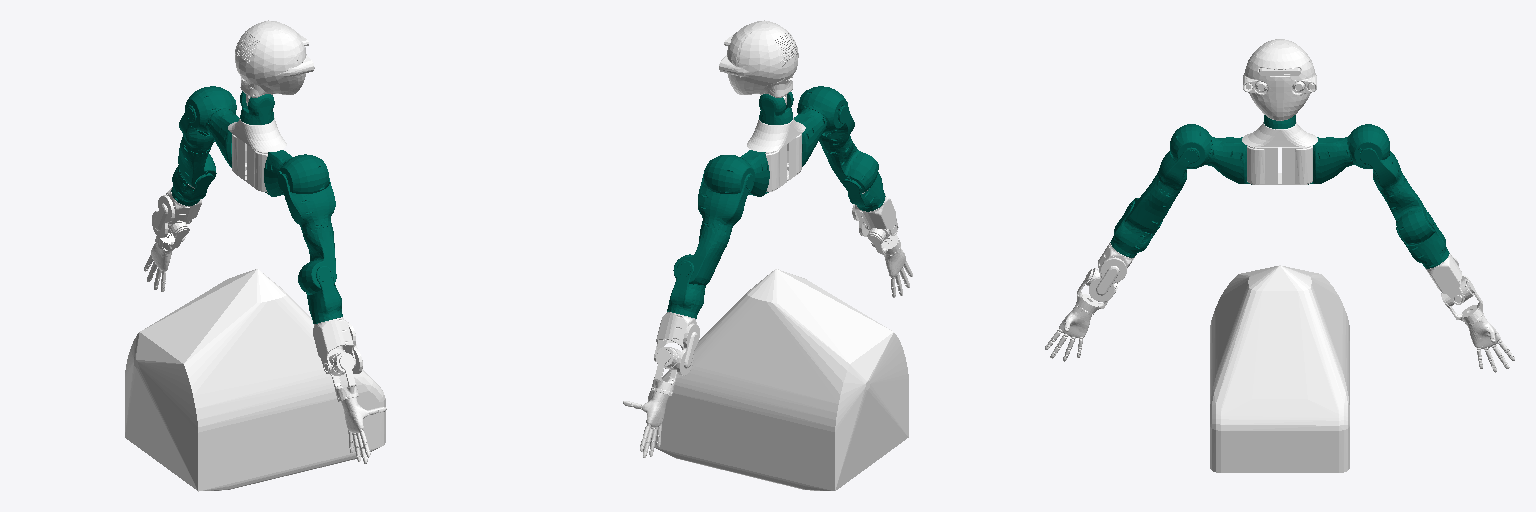
--- What the picture shows (computed from the rendered views, not written in the file) ---
3 views of the same robot in one strip: view 1: azimuth 30°, elevation 25°; view 2: azimuth 150°, elevation 25°; view 3: azimuth 270°, elevation 25° (orthographic).
Model Armar6 with 59 links and 58 joints (40 revolute, 6 continuous, 1 prismatic, 11 fixed), rooted at world, posed every joint at zero.
Links seen in each view (by area): view 1: platform, upper_neck, arm_t34_r1, arm_t45_r1, arm_t67_r1, arm_t23_r1, arm_t23_r0, lower_neck, arm_t56_r1, arm_t67_r0, arm_t45_r0, arm_t12_r0 (+8 smaller); view 2: platform, upper_neck, arm_t34_r0, arm_t45_r0, arm_t67_r0, arm_t23_r0, arm_t45_r1, arm_t23_r1, arm_t56_r0, lower_neck, arm_t67_r1, arm_t12_r1 (+8 smaller); view 3: platform, upper_neck, arm_t45_r0, arm_t45_r1, arm_t12_r0, arm_t12_r1, arm_t67_r1, arm_t23_r1, lower_neck, arm_t23_r0, arm_t34_r0, arm_cla_r0 (+9 smaller).
Link boxes in pixels (bbox=[...]): platform: bbox=[125, 269, 385, 491]; upper_neck: bbox=[235, 20, 314, 105]; arm_t34_r1: bbox=[278, 174, 335, 232]; arm_t45_r1: bbox=[298, 226, 336, 294]; arm_t67_r1: bbox=[313, 317, 362, 373]; arm_t23_r1: bbox=[278, 154, 328, 193]; arm_t23_r0: bbox=[185, 86, 235, 132]; lower_neck: bbox=[228, 118, 286, 151]; arm_t56_r1: bbox=[306, 266, 342, 323]; arm_t67_r0: bbox=[152, 184, 201, 237]; arm_t45_r0: bbox=[178, 132, 216, 187]; arm_t12_r0: bbox=[207, 109, 239, 167]; platform: bbox=[648, 269, 908, 490]; upper_neck: bbox=[719, 20, 798, 104]; arm_t34_r0: bbox=[698, 168, 753, 232]; arm_t45_r0: bbox=[673, 226, 730, 285]; arm_t67_r0: bbox=[654, 312, 699, 375]; arm_t23_r0: bbox=[704, 155, 754, 195]; arm_t45_r1: bbox=[822, 132, 878, 192]; arm_t23_r1: bbox=[797, 86, 848, 132]; arm_t56_r0: bbox=[667, 260, 705, 318]; lower_neck: bbox=[747, 118, 805, 151]; arm_t67_r1: bbox=[852, 190, 898, 236]; arm_t12_r1: bbox=[794, 109, 826, 166]; platform: bbox=[1210, 265, 1349, 472]; upper_neck: bbox=[1243, 39, 1316, 120]; arm_t45_r0: bbox=[1382, 179, 1434, 244]; arm_t45_r1: bbox=[1125, 179, 1177, 233]; arm_t12_r0: bbox=[1308, 137, 1352, 184]; arm_t12_r1: bbox=[1207, 137, 1251, 184]; arm_t67_r1: bbox=[1089, 243, 1134, 301]; arm_t23_r1: bbox=[1170, 124, 1212, 168]; lower_neck: bbox=[1242, 122, 1317, 146]; arm_t23_r0: bbox=[1347, 124, 1389, 168]; arm_t34_r0: bbox=[1360, 148, 1405, 194]; arm_cla_r0: bbox=[1280, 145, 1312, 184].
Bounding box of the posed robot: 0.95 × 2.02 × 1.89 m (x, y, z).
52 mesh visuals loaded from 30 distinct referenced files (16 binary STL, 13 OBJ); not drawn: 1 (reference not matched to a file when rendering).

URDF robot description (Armar6):
<?xml version="1.0" ?>
<robot name="Armar6">
  <link name="world"/>
  <joint name="platform_joint" type="fixed">
    <parent link="world"/>
    <child link="platform"/>
    <origin rpy="0 0 -1.5707963267948966" xyz="0 0 0"/>
  </joint>
  <link name="platform">
    <inertial>
      <origin rpy="0 0 0" xyz="0 0 0"/>
      <mass value="100"/>
      <inertia ixx="1" ixy="0" ixz="0" iyy="1" iyz="0" izz="1"/>
    </inertial>
    <visual>
      <origin rpy="0 0 0" xyz="0 0 0"/>
      <geometry>
        <mesh filename="package://armar6_description/meshes/visual/platform.obj"/>
      </geometry>
      <material name="white">
        <color rgba="1 1 1 1"/>
      </material>
    </visual>
    <collision>
      <origin rpy="0 0 0" xyz="0 0 0"/>
      <geometry>
        <mesh filename="package://armar6_description/meshes/collision/platform.stl"/>
      </geometry>
    </collision>
  </link>
  <joint name="torso_joint" type="prismatic">
    <parent link="platform"/>
    <child link="torso"/>
    <origin rpy="0 0 0" xyz="0 0 1.195"/>
    <axis xyz="0 0 1"/>
    <limit effort="1000" lower="-0.365" upper="0" velocity="0.15"/>
    <dynamics damping="0.5"/>
  </joint>
  <link name="torso">
    <inertial>
      <origin rpy="0 0 0" xyz="0 0 0.0711"/>
      <mass value="9.7089"/>
      <inertia ixx="0.064445" ixy="0" ixz="0.000181" iyy="0.070569" iyz="-0.000044" izz="0.182479"/>
    </inertial>
    <visual>
      <origin rpy="0 0 0" xyz="0 0 0"/>
      <geometry>
        <mesh filename="package://armar6_description/meshes/visual/torso.obj"/>
      </geometry>
      <material name="white">
        <color rgba="1 1 1 1"/>
      </material>
    </visual>
    <collision>
      <origin rpy="0 0 0" xyz="0 0 0"/>
      <geometry>
        <mesh filename="package://armar6_description/meshes/collision/torso.stl"/>
      </geometry>
    </collision>
  </link>

  <!-- NECK -->

  <joint name="lower_neck_joint" type="fixed">
    <parent link="torso"/>
    <child link="lower_neck"/>
    <origin rpy="0 0 1.5707963267948966" xyz="0 0 0.3685"/>
  </joint>
  <link name="lower_neck">
    <inertial>
      <origin rpy="0 0 0" xyz="0 0 -0.114"/>
      <mass value="0.671"/>
      <inertia ixx="2.9368849e-03" ixy="-9.8073037e-07" ixz="3.4807663e-07" iyy="3.0522742e-03" iyz="1.7456971e-07" izz="4.3647786e-03"/>
    </inertial>
    <visual>
      <origin rpy="0 0 0" xyz="0 0 0"/>
      <geometry>
        <mesh filename="package://armar6_description/meshes/visual/lower_neck.obj"/>
      </geometry>
      <material name="white">
        <color rgba="1 1 1 1"/>
      </material>
    </visual>
    <collision>
      <origin rpy="0 0 0" xyz="0 0 0"/>
      <geometry>
        <mesh filename="package://armar6_description/meshes/collision/lower_neck.stl"/>
      </geometry>
    </collision>
  </link>
  <joint name="neck_1_yaw" type="revolute">
    <parent link="lower_neck"/>
    <child link="middle_neck"/>
    <limit effort="100" lower="-1.0" upper="1.0" velocity="3.1415"/>
    <origin rpy="0 0 0" xyz="0 0 0"/>
    <axis xyz="0.00000 0.00000 1.00000"/>
  </joint>
  <link name="middle_neck">
    <inertial>
      <origin rpy="0 0 0" xyz="0 0 0"/>
      <mass value="0.304"/>
      <inertia ixx="8.3637709e-04" ixy="7.3326556e-05" ixz="3.2956579e-07" iyy="7.6398772e-04" iyz="3.8719866e-07" izz="1.0940196e-03"/>
    </inertial>
    <visual>
      <origin rpy="0 0 0" xyz="0 0 0"/>
      <geometry>
        <mesh filename="package://armar6_description/meshes/visual/middle_neck.obj"/>
      </geometry>
      <material name="armar_green">
        <color rgba="0.039215686 0.447058824 0.4 1"/>
      </material>
    </visual>
    <collision>
      <origin rpy="0 0 0" xyz="0 0 0"/>
      <geometry>
        <mesh filename="package://armar6_description/meshes/collision/middle_neck.stl"/>
      </geometry>
    </collision>
  </link>
  <joint name="neck_2_pitch" type="revolute">
    <parent link="middle_neck"/>
    <child link="upper_neck"/>
    <limit effort="100" lower="-0.8" upper="0.8" velocity="3.1415"/>
    <origin rpy="1.5707963267948966 0 1.5707963267948966" xyz="0 0 0"/>
    <axis xyz="1.00000 0.00000 0.00000"/>
  </joint>
  <link name="upper_neck">
    <inertial>
      <origin rpy="0 0 0" xyz="0 0.129 0.088"/>
      <mass value="3.307"/>
      <inertia ixx="4.2049627e-02" ixy="2.1679760e-04" ixz="1.5039253e-04" iyy="3.7165600e-04" iyz="-1.2902959e-02" izz="3.8875838e-02"/>
    </inertial>
    <visual>
      <origin rpy="0 0 0" xyz="0 0 0"/>
      <geometry>
        <mesh filename="package://armar6_description/meshes/visual/upper_neck.obj"/>
      </geometry>
      <material name="white">
        <color rgba="1 1 1 1"/>
      </material>
    </visual>
    <collision>
      <origin rpy="0 0 0" xyz="0 0 0"/>
      <geometry>
        <mesh filename="package://armar6_description/meshes/collision/upper_neck.stl"/>
      </geometry>
    </collision>
  </link>

  <!-- CAMERA -->

  <joint name="depth_camera_joint" type="fixed">
		<parent link="upper_neck"/>
		<child link="DepthCamera"/>
		<dynamics damping="1.0" friction="0.0001"/>
		<origin rpy="0.00000 0.00000 -3.14159" xyz="0.03300 0.24780 0.19300"/>
		<axis xyz="0.00000 0.00000 0.00000"/>
	</joint>
  <link name="DepthCamera">
		<inertial>
			<origin rpy="0.00000 -0.00000 0.00000" xyz="0.00000 0.00000 0.00000"/>
			<mass value="0.00010"/>
			<inertia ixx="0.00000" ixy="0" ixz="0" iyy="0.00000" iyz="0" izz="0.00000"/>
		</inertial>
	</link>
	<joint name="flea_cameras_joint" type="fixed">
		<parent link="upper_neck"/>
		<child link="FleaCamerasCenter"/>
		<dynamics damping="1.0" friction="0.0001"/>
		<origin rpy="0.00000 0.00000 -3.14159" xyz="0.00000 0.17300 0.12300"/>
		<axis xyz="0.00000 0.00000 0.00000"/>
	</joint>
	<link name="FleaCamerasCenter">
		<inertial>
			<origin rpy="0.00000 -0.00000 0.00000" xyz="0.00000 0.00000 0.00000"/>
			<mass value="0.00010"/>
			<inertia ixx="0.00000" ixy="0" ixz="0" iyy="0.00000" iyz="0" izz="0.00000"/>
		</inertial>
	</link>
	<joint name="robotception_camera_link" type="fixed">
		<parent link="upper_neck"/>
		<child link="Roboception"/>
		<dynamics damping="1.0" friction="0.0001"/>
		<origin rpy="0.00000 -0.00000 0.00000" xyz="0.00000 0.17300 0.16050"/>
		<axis xyz="0.00000 0.00000 0.00000"/>
	</joint>
	<link name="Roboception">
		<inertial>
			<origin rpy="0.00000 -0.00000 0.00000" xyz="0.00000 0.00000 0.00000"/>
			<mass value="0.00010"/>
			<inertia ixx="0.00000" ixy="0" ixz="0" iyy="0.00000" iyz="0" izz="0.00000"/>
		</inertial>
	</link>

  <!-- ARM -->
  <!-- left arm -->

  <joint name="arm_cla_joint_r0" type="fixed">
    <parent link="torso"/>
    <child link="arm_cla_r0"/>
    <origin rpy="0 0 1.5707963267948966" xyz="-0.09 0.0 0.1"/>
  </joint>
  <link name="arm_cla_r0">
    <inertial>
      <origin rpy="0 0 0" xyz="0 0 0"/>
      <mass value="1.0"/>
      <inertia ixx="0.005094" ixy="0" ixz="0" iyy="0.00445008" iyz="0" izz="0.0032066"/>
    </inertial>
    <visual>
      <origin rpy="0 0 0" xyz="0 0 0"/>
      <geometry>
        <mesh filename="package://armar6_description/meshes/visual/arml_cla.obj" scale="1.016 1.016 1.016"/>
      </geometry>
      <material name="white">
        <color rgba="1 1 1 1"/>
      </material>
    </visual>
    <collision>
      <origin rpy="0 0 0" xyz="0 0 0"/>
      <geometry>
        <mesh filename="package://armar6_description/meshes/collision/arml_cla.stl"/>
      </geometry>
    </collision>
  </link>
  <joint name="arm_t12_joint_r0" type="revolute">
    <parent link="arm_cla_r0"/>
    <child link="arm_t12_r0"/>
    <origin rpy="0 0 0" xyz="0 0 0"/>
    <axis xyz="0 0 1"/>
    <limit effort="240" lower="-1.3962634016" upper="1.3962634016" velocity="1.710422666954443"/>
    <dynamics damping="0.5"/>
  </joint>
  <link name="arm_t12_r0">
    <inertial>
      <origin rpy="0 0 0" xyz="0.0 0.1419 0.0283"/>
      <mass value="3.5488"/>
      <inertia ixx="0.018383" ixy="0.000021" ixz="0.000211" iyy="0.014306" iyz="-0.002042" izz="0.010714"/>
    </inertial>
    <visual>
      <origin rpy="0 0 0" xyz="0 0 0"/>
      <geometry>
        <mesh filename="package://armar6_description/meshes/visual/arml_t12.obj"/>
      </geometry>
      <material name="armar_green">
        <color rgba="0.039215686 0.447058824 0.4 1"/>
      </material>
    </visual>
    <collision>
      <origin rpy="0 0 0" xyz="0 0 0"/>
      <geometry>
        <mesh filename="package://armar6_description/meshes/collision/arml_t12.stl"/>
      </geometry>
    </collision>
  </link>
  <joint name="arm_t23_joint_r0" type="continuous">
    <parent link="arm_t12_r0"/>
    <child link="arm_t23_r0"/>
    <origin rpy="-1.3089971 0 0" xyz="0 0.289777748 0.077645714"/>
    <axis xyz="0 0 1"/>
    <limit effort="200" velocity="1.710422666954443"/>
    <dynamics damping="0.5"/>
  </joint>
  <link name="arm_t23_r0">
    <inertial>
      <origin rpy="0 0 0" xyz="0.00015 -0.0036 0.0211"/>
      <mass value="3.03804"/>
      <inertia ixx="0.009401" ixy="-0.000018" ixz="-0.000003" iyy="0.012958" iyz="-0.000054" izz="0.013138"/>
    </inertial>
    <visual>
      <origin rpy="0 0 0" xyz="0 0 0"/>
      <geometry>
        <mesh filename="package://armar6_description/meshes/visual/arml_t23.obj"/>
      </geometry>
      <material name="armar_green">
        <color rgba="0.039215686 0.447058824 0.4 1"/>
      </material>
    </visual>
    <collision>
      <origin rpy="0 0 0" xyz="0 0 0"/>
      <geometry>
        <mesh filename="package://armar6_description/meshes/collision/arml_t23.stl"/>
      </geometry>
    </collision>
  </link>
  <joint name="arm_t34_joint_r0" type="revolute">
    <parent link="arm_t23_r0"/>
    <child link="arm_t34_r0"/>
    <origin rpy="1.5707963 1.3089969 1.5707963" xyz="0 0 0"/>
    <axis xyz="0 0 1"/>
    <limit effort="200" lower="-0.24" upper="3.1" velocity="1.710422666954443"/>
    <dynamics damping="0.5"/>
  </joint>
  <link name="arm_t34_r0">
    <inertial>
      <origin rpy="0 0 0" xyz="-0.01285 0.11 0.00467"/>
      <mass value="3.46206"/>
      <inertia ixx="0.015225" ixy="0.000148" ixz="0.000739" iyy="0.011775" iyz="0.000467" izz="0.009438"/>
    </inertial>
    <visual>
      <origin rpy="0 0 0" xyz="0 0 0"/>
      <geometry>
        <mesh filename="package://armar6_description/meshes/visual/arml_t34.obj"/>
      </geometry>
      <material name="armar_green">
        <color rgba="0.039215686 0.447058824 0.4 1"/>
      </material>
    </visual>
    <collision>
      <origin rpy="0 0 0" xyz="0 0 0"/>
      <geometry>
        <mesh filename="package://armar6_description/meshes/collision/arml_t34.stl"/>
      </geometry>
    </collision>
  </link>
  <joint name="arm_t45_joint_r0" type="continuous">
    <parent link="arm_t34_r0"/>
    <child link="arm_t45_r0"/>
    <origin rpy="-1.5707963 0 0" xyz="0 0 0"/>
    <axis xyz="0 0 1"/>
    <limit effort="200" velocity="1.710422666954443"/>
    <dynamics damping="0.5"/>
  </joint>
  <link name="arm_t45_r0">
    <inertial>
      <origin rpy="0 0 0" xyz="0.0163 -0.0332 0.315"/>
      <mass value="3.31477"/>
      <inertia ixx="0.018629" ixy="0.000853" ixz="-0.00045" iyy="0.011775" iyz="0.004029" izz="0.017761"/>
    </inertial>
    <visual>
      <origin rpy="0 0 0" xyz="0 0 0"/>
      <geometry>
        <mesh filename="package://armar6_description/meshes/visual/arml_t45.obj"/>
      </geometry>
      <material name="armar_green">
        <color rgba="0.039215686 0.447058824 0.4 1"/>
      </material>
    </visual>
    <collision>
      <origin rpy="0 0 0" xyz="0 0 0"/>
      <geometry>
        <mesh filename="package://armar6_description/meshes/collision/arml_t45.stl"/>
      </geometry>
    </collision>
  </link>
  <joint name="arm_t56_joint_r0" type="revolute">
    <parent link="arm_t45_r0"/>
    <child link="arm_t56_r0"/>
    <origin rpy="0 1.5707963 0" xyz="0 -0.055 0.409"/>
    <axis xyz="0 0 1"/>
    <limit effort="200" lower="0" upper="2.51" velocity="1.710422666954443"/>
    <dynamics damping="0.5"/>
  </joint>
  <link name="arm_t56_r0">
    <inertial>
      <origin rpy="0 0 0" xyz="-0.09107 0.00476 -0.00899"/>
      <mass value="2.63888"/>
      <inertia ixx="0.007551" ixy="0.000371" ixz="0.000125" iyy="0.009482" iyz="0.000003" izz="0.011298"/>
    </inertial>
    <visual>
      <origin rpy="0 0 0" xyz="0 0 0"/>
      <geometry>
        <mesh filename="package://armar6_description/meshes/visual/arml_t56.obj"/>
      </geometry>
      <material name="armar_green">
        <color rgba="0.039215686 0.447058824 0.4 1"/>
      </material>
    </visual>
    <collision>
      <origin rpy="0 0 0" xyz="0 0 0"/>
      <geometry>
        <mesh filename="package://armar6_description/meshes/collision/arml_t56.stl"/>
      </geometry>
    </collision>
  </link>
  <joint name="arm_t67_joint_r0" type="continuous">
    <parent link="arm_t56_r0"/>
    <child link="arm_t67_r0"/>
    <origin rpy="0 -1.5707963 0" xyz="0 0 0"/>
    <axis xyz="0 0 1"/>
    <limit effort="200" velocity="1.710422666954443"/>
    <dynamics damping="0.5"/>
  </joint>
  <link name="arm_t67_r0">
    <inertial>
      <origin rpy="0 0 0" xyz="0.00107 0.01939 0.25303"/>
      <mass value="2.71787"/>
      <inertia ixx="0.011854" ixy="0.000068" ixz="0.000083" iyy="0.007149" iyz="-0.00184" izz="0.0095"/>
    </inertial>
    <visual>
      <origin rpy="0 0 0" xyz="0 0 0"/>
      <geometry>
        <mesh filename="package://armar6_description/meshes/visual/arml_t67.obj"/>
      </geometry>
      <material name="white">
        <color rgba="1 1 1 1"/>
      </material>
    </visual>
    <collision>
      <origin rpy="0 0 0" xyz="0 0 0"/>
      <geometry>
        <mesh filename="package://armar6_description/meshes/collision/arml_t67.stl"/>
      </geometry>
    </collision>
  </link>
  <joint name="arm_t78_joint_r0" type="revolute">
    <parent link="arm_t67_r0"/>
    <child link="arm_t78_r0"/>
    <origin rpy="1.5707963 0 0" xyz="0 0 0.364"/>
    <axis xyz="0 0 1"/>
    <limit effort="200" lower="-0.64" upper="0.64" velocity="1.710422666954443"/>
    <dynamics damping="0.5"/>
  </joint>
  <link name="arm_t78_r0">
    <inertial>
      <origin rpy="0 0 0" xyz="-0.00657 -0.00467 0.01181"/>
      <mass value="1.62346"/>
      <inertia ixx="0.001552" ixy="0.000014" ixz="-0.000018" iyy="0.001959" iyz="0.000002" izz="0.002392"/>
    </inertial>
    <visual>
      <origin rpy="0 0 0" xyz="0 0 0"/>
      <geometry>
        <mesh filename="package://armar6_description/meshes/visual/arml_t78.obj"/>
      </geometry>
      <material name="white">
        <color rgba="1 1 1 1"/>
      </material>
    </visual>
    <collision>
      <origin rpy="0 0 0" xyz="0 0 0"/>
      <geometry>
        <mesh filename="package://armar6_description/meshes/collision/arml_t78.stl"/>
      </geometry>
    </collision>
  </link>
  <joint name="arm_t8_joint_r0" type="revolute">
    <parent link="arm_t78_r0"/>
    <child link="arm_t8_r0"/>
    <origin rpy="-1.5707963 1.5707963 0" xyz="0 0 0.0"/>
    <axis xyz="0 -1 0"/>
    <limit effort="200" lower="-1.52" upper="1.52" velocity="1.710422666954443"/>
    <dynamics damping="0.5"/>
  </joint>
  <link name="arm_t8_r0">
    <inertial>
      <origin rpy="0 0 0" xyz="-0.0120 0.0267 0.094"/>
      <mass value="0.528074"/>
      <inertia ixx="0.002188" ixy="0.000007" ixz="-0.000004" iyy="0.001519" iyz="0.000256" izz="0.001176"/>
    </inertial>
    <visual>
      <origin rpy="0 0 0" xyz="0 0 0"/>
      <geometry>
        <mesh filename="package://armar6_description/meshes/visual/arml_t8.obj"/>
      </geometry>
      <material name="white">
        <color rgba="1 1 1 1"/>
      </material>
    </visual>
    <collision>
      <origin rpy="0 0 0" xyz="0 0 0"/>
      <geometry>
        <mesh filename="package://armar6_description/meshes/collision/arml_t8.stl"/>
      </geometry>
    </collision>
  </link>

  <!-- right arm -->

  <joint name="arm_cla_joint_r1" type="fixed">
    <parent link="torso"/>
    <child link="arm_cla_r1"/>
    <origin rpy="0 0 -1.5707963267948966" xyz="0.09 0.0 0.1"/>
  </joint>
  <link name="arm_cla_r1">
    <inertial>
      <origin rpy="0 0 0" xyz="0 0 0"/>
      <mass value="1.0"/>
      <inertia ixx="0.005094" ixy="0" ixz="0" iyy="0.00445008" iyz="0" izz="0.0032066"/>
    </inertial>
    <visual>
      <origin rpy="0 0 0" xyz="0 0 0"/>
      <geometry>
        <mesh filename="package://armar6_description/meshes/visual/arml_cla.obj" scale="1.016 1.016 1.016"/>
      </geometry>
      <material name="white">
        <color rgba="1 1 1 1"/>
      </material>
    </visual>
    <collision>
      <origin rpy="0 0 0" xyz="0 0 0"/>
      <geometry>
        <mesh filename="package://armar6_description/meshes/collision/arml_cla.stl"/>
      </geometry>
    </collision>
  </link>
  <joint name="arm_t12_joint_r1" type="revolute">
    <parent link="arm_cla_r1"/>
    <child link="arm_t12_r1"/>
    <origin rpy="0 0 0" xyz="0 0 0"/>
    <axis xyz="0 0 1"/>
    <limit effort="240" lower="-1.3962634016" upper="1.3962634016" velocity="1.710422666954443"/>
    <dynamics damping="0.5"/>
  </joint>
  <link name="arm_t12_r1">
    <inertial>
      <origin rpy="0 0 0" xyz="0.0 0.1419 0.0283"/>
      <mass value="3.5488"/>
      <inertia ixx="0.018383" ixy="0.000021" ixz="0.000211" iyy="0.014306" iyz="-0.002042" izz="0.010714"/>
    </inertial>
    <visual>
      <origin rpy="0 0 0" xyz="0 0 0"/>
      <geometry>
        <mesh filename="package://armar6_description/meshes/visual/arml_t12.obj"/>
      </geometry>
      <material name="armar_green">
        <color rgba="0.039215686 0.447058824 0.4 1"/>
      </material>
    </visual>
    <collision>
      <origin rpy="0 0 0" xyz="0 0 0"/>
      <geometry>
        <mesh filename="package://armar6_description/meshes/collision/arml_t12.stl"/>
      </geometry>
    </collision>
  </link>
  <joint name="arm_t23_joint_r1" type="continuous">
    <parent link="arm_t12_r1"/>
    <child link="arm_t23_r1"/>
    <origin rpy="-1.3089971 0 0" xyz="0 0.289777748 0.077645714"/>
    <axis xyz="0 0 1"/>
    <limit effort="200" velocity="1.710422666954443"/>
    <dynamics damping="0.5"/>
  </joint>
  <link name="arm_t23_r1">
    <inertial>
      <origin rpy="0 0 0" xyz="0.00015 -0.0036 0.0211"/>
      <mass value="3.03804"/>
      <inertia ixx="0.009401" ixy="-0.000018" ixz="-0.000003" iyy="0.012958" iyz="-0.000054" izz="0.013138"/>
    </inertial>
    <visual>
      <origin rpy="0 0 0" xyz="0 0 0"/>
      <geometry>
        <mesh filename="package://armar6_description/meshes/visual/arml_t23.obj"/>
      </geometry>
      <material name="armar_green">
        <color rgba="0.039215686 0.447058824 0.4 1"/>
      </material>
    </visual>
    <collision>
      <origin rpy="0 0 0" xyz="0 0 0"/>
      <geometry>
        <mesh filename="package://armar6_description/meshes/collision/arml_t23.stl"/>
      </geometry>
    </collision>
  </link>
  <joint name="arm_t34_joint_r1" type="revolute">
    <parent link="arm_t23_r1"/>
    <child link="arm_t34_r1"/>
    <origin rpy="1.5707963 1.3089969 1.5707963" xyz="0 0 0"/>
    <axis xyz="0 0 1"/>
    <limit effort="200" lower="-0.24" upper="3.1" velocity="1.710422666954443"/>
    <dynamics damping="0.5"/>
  </joint>
  <link name="arm_t34_r1">
    <inertial>
      <origin rpy="0 0 0" xyz="-0.01285 0.11 0.00467"/>
      <mass value="3.46206"/>
      <inertia ixx="0.015225" ixy="0.000148" ixz="0.000739" iyy="0.011775" iyz="0.000467" izz="0.009438"/>
    </inertial>
    <visual>
      <origin rpy="0 0 0" xyz="0 0 0"/>
      <geometry>
        <mesh filename="package://armar6_description/meshes/visual/arml_t34.obj"/>
      </geometry>
      <material name="armar_green">
        <color rgba="0.039215686 0.447058824 0.4 1"/>
      </material>
    </visual>
    <collision>
      <origin rpy="0 0 0" xyz="0 0 0"/>
      <geometry>
        <mesh filename="package://armar6_description/meshes/collision/arml_t34.stl"/>
      </geometry>
    </collision>
  </link>
  <joint name="arm_t45_joint_r1" type="continuous">
    <parent link="arm_t34_r1"/>
    <child link="arm_t45_r1"/>
    <origin rpy="-1.5707963 0 0" xyz="0 0 0"/>
    <axis xyz="0 0 1"/>
    <limit effort="200" velocity="1.710422666954443"/>
    <dynamics damping="0.5"/>
  </joint>
  <link name="arm_t45_r1">
    <inertial>
      <origin rpy="0 0 0" xyz="0.0163 -0.0332 0.315"/>
      <mass value="3.31477"/>
      <inertia ixx="0.018629" ixy="0.000853" ixz="-0.00045" iyy="0.011775" iyz="0.004029" izz="0.017761"/>
    </inertial>
    <visual>
      <origin rpy="0 0 0" xyz="0 0 0"/>
      <geometry>
        <mesh filename="package://armar6_description/meshes/visual/arml_t45.obj"/>
      </geometry>
      <material name="armar_green">
        <color rgba="0.039215686 0.447058824 0.4 1"/>
      </material>
    </visual>
    <collision>
      <origin rpy="0 0 0" xyz="0 0 0"/>
      <geometry>
        <mesh filename="package://armar6_description/meshes/collision/arml_t45.stl"/>
      </geometry>
    </collision>
  </link>
  <joint name="arm_t56_joint_r1" type="revolute">
    <parent link="arm_t45_r1"/>
    <child link="arm_t56_r1"/>
    <origin rpy="0 1.5707963 0" xyz="0 -0.055 0.409"/>
    <axis xyz="0 0 1"/>
    <limit effort="200" lower="0" upper="2.51" velocity="1.710422666954443"/>
    <dynamics damping="0.5"/>
  </joint>
  <link name="arm_t56_r1">
    <inertial>
      <origin rpy="0 0 0" xyz="-0.09107 0.00476 -0.00899"/>
      <mass value="2.63888"/>
      <inertia ixx="0.007551" ixy="0.000371" ixz="0.000125" iyy="0.009482" iyz="0.000003" izz="0.011298"/>
    </inertial>
    <visual>
      <origin rpy="0 0 0" xyz="0 0 0"/>
      <geometry>
        <mesh filename="package://armar6_description/meshes/visual/arml_t56.obj"/>
      </geometry>
      <material name="armar_green">
        <color rgba="0.039215686 0.447058824 0.4 1"/>
      </material>
    </visual>
    <collision>
      <origin rpy="0 0 0" xyz="0 0 0"/>
      <geometry>
        <mesh filename="package://armar6_description/meshes/collision/arml_t56.stl"/>
      </geometry>
    </collision>
  </link>
  <joint name="arm_t67_joint_r1" type="continuous">
    <parent link="arm_t56_r1"/>
    <child link="arm_t67_r1"/>
    <origin rpy="0 -1.5707963 0" xyz="0 0 0"/>
    <axis xyz="0 0 1"/>
    <limit effort="200" velocity="1.710422666954443"/>
    <dynamics damping="0.5"/>
  </joint>
  <link name="arm_t67_r1">
    <inertial>
      <origin rpy="0 0 0" xyz="0.00107 0.01939 0.25303"/>
      <mass value="2.71787"/>
      <inertia ixx="0.011854" ixy="0.000068" ixz="0.000083" iyy="0.007149" iyz="-0.00184" izz="0.0095"/>
    </inertial>
    <visual>
      <origin rpy="0 0 0" xyz="0 0 0"/>
      <geometry>
        <mesh filename="package://armar6_description/meshes/visual/arml_t67.obj"/>
      </geometry>
      <material name="white">
        <color rgba="1 1 1 1"/>
      </material>
    </visual>
    <collision>
      <origin rpy="0 0 0" xyz="0 0 0"/>
      <geometry>
        <mesh filename="package://armar6_description/meshes/collision/arml_t67.stl"/>
      </geometry>
    </collision>
  </link>
  <joint name="arm_t78_joint_r1" type="revolute">
    <parent link="arm_t67_r1"/>
    <child link="arm_t78_r1"/>
    <origin rpy="1.5707963 0 0" xyz="0 0 0.364"/>
    <axis xyz="0 0 1"/>
    <limit effort="200" lower="-0.64" upper="0.64" velocity="1.710422666954443"/>
    <dynamics damping="0.5"/>
  </joint>
  <link name="arm_t78_r1">
    <inertial>
      <origin rpy="0 0 0" xyz="-0.00657 -0.00467 0.01181"/>
      <mass value="1.62346"/>
      <inertia ixx="0.001552" ixy="0.000014" ixz="-0.000018" iyy="0.001959" iyz="0.000002" izz="0.002392"/>
    </inertial>
    <visual>
      <origin rpy="0 0 0" xyz="0 0 0"/>
      <geometry>
        <mesh filename="package://armar6_description/meshes/visual/arml_t78.obj"/>
      </geometry>
      <material name="white">
        <color rgba="1 1 1 1"/>
      </material>
    </visual>
    <collision>
      <origin rpy="0 0 0" xyz="0 0 0"/>
      <geometry>
        <mesh filename="package://armar6_description/meshes/collision/arml_t78.stl"/>
      </geometry>
    </collision>
  </link>
  <joint name="arm_t8_joint_r1" type="revolute">
    <parent link="arm_t78_r1"/>
    <child link="arm_t8_r1"/>
    <origin rpy="-1.5707963 1.5707963 0" xyz="0 0 0.0"/>
    <axis xyz="0 -1 0"/>
    <limit effort="200" lower="-1.52" upper="1.52" velocity="1.710422666954443"/>
    <dynamics damping="0.5"/>
  </joint>
  <link name="arm_t8_r1">
    <inertial>
      <origin rpy="0 0 0" xyz="-0.0120 0.0267 0.094"/>
      <mass value="0.528074"/>
      <inertia ixx="0.002188" ixy="0.000007" ixz="-0.000004" iyy="0.001519" iyz="0.000256" izz="0.001176"/>
    </inertial>
    <visual>
      <origin rpy="0 0 0" xyz="0 0 0"/>
      <geometry>
        <mesh filename="package://armar6_description/meshes/visual/arml_t8.obj"/>
      </geometry>
      <material name="white">
        <color rgba="1 1 1 1"/>
      </material>
    </visual>
    <collision>
      <origin rpy="0 0 0" xyz="0 0 0"/>
      <geometry>
        <mesh filename="package://armar6_description/meshes/collision/arml_t8.stl"/>
      </geometry>
    </collision>
  </link>

  <!-- HANDS -->
  <!-- left hand -->

  <!-- welded left hand commenting out -->
  <!-- <joint name="hand_fixed_joint_r0" type="fixed"> -->
  <!--   <parent link="arm_t8_r0"/> -->
  <!--   <child link="hand_fixed_r0"/> -->
  <!--   <origin rpy="0 0 0" xyz="-0.022 0 0.2645"/> -->
  <!-- </joint> -->
  <!-- <link name="hand_fixed_r0"> -->
  <!--   <inertial> -->
  <!--     <origin rpy="0 0 0" xyz="0.015 0.0 -0.025"/> -->
  <!--     <mass value="0.985765"/> -->
  <!--     <inertia ixx="0.0074021" ixy="0" ixz="0" iyy="0.008008" iyz="0" izz="0.0032670"/> -->
  <!--   </inertial> -->
  <!--   <visual> -->
  <!--     <origin rpy="0 0 0" xyz="0 0 0"/> -->
  <!--     <geometry> -->
  <!--       <mesh filename="package://armar6_description/meshes/visual/left_hand_fixed.obj"/> -->
  <!--     </geometry> -->
  <!--     <material name="armar_metal"> -->
  <!--       <color rgba="0.251 0.251 0.251 1"/> -->
  <!--     </material> -->
  <!--   </visual> -->
  <!--   <collision> -->
  <!--     <origin rpy="0 0 0" xyz="0 0 0"/> -->
  <!--     <geometry> -->
  <!--       <mesh filename="package://armar6_description/meshes/collision/left_hand_fixed.obj"/> -->
  <!--     </geometry> -->
  <!--   </collision> -->
  <!-- </link> -->

	<joint name="hand_joint" type="fixed">
		<parent link="arm_t8_r0"/>
		<child link="Hand L Palm"/>
		<dynamics damping="1.0" friction="0.0001"/>
		<origin rpy="0.00000 -1.57080 -1.57080" xyz="0.00000 0.00000 0.14000"/>
	</joint>
	<!-- <link name="HandL_Base~Hand L Root"> -->
	<!-- 	<inertial> -->
	<!-- 		<origin rpy="0.00000 -0.00000 0.00000" xyz="0.00000 0.00000 0.00000"/> -->
	<!-- 		<mass value="0.00010"/> -->
	<!-- 		<inertia ixx="0.00000" ixy="0" ixz="0" iyy="0.00000" iyz="0" izz="0.00000"/> -->
	<!-- 	</inertial> -->
	<!-- </link> -->
	<!-- <joint name="jointfix_17_26" type="fixed"> -->
	<!-- 	<parent link="HandL_Base~Hand L Root"/> -->
	<!-- 	<child link="Hand L Palm"/> -->
	<!-- 	<dynamics damping="1.0" friction="0.0001"/> -->
	<!-- 	<origin rpy="0.00000 -0.00000 0.00000" xyz="0.00000 0.00000 0.00000"/> -->
	<!-- </joint> -->
	<link name="Hand L Palm">
		<inertial>
			<origin rpy="0.00000 -0.00000 0.00000" xyz="0.00000 0.00000 0.00000"/>
			<mass value="0.00000"/>
			<inertia ixx="0.00000" ixy="0" ixz="0" iyy="0.00000" iyz="0" izz="0.00000"/>
		</inertial>
		<visual>
			<origin rpy="0.00000 -0.00000 0.00000" xyz="0.00000 0.00000 0.00000"/>
			<geometry>
				<mesh filename="package://armar6_description/mesh/stl/visual/hand_v3/palm_l.stl" scale="1.00000 1.00000 1.00000"/>
			</geometry>
			<material name="mat_27_0">
				<color rgba="1.00000 1.00000 1.00000 1.00000" />
			</material>
		</visual>
		<collision>
			<origin rpy="0.00000 -0.00000 0.00000" xyz="0.00000 0.00000 0.00000"/>
			<geometry>
				<mesh filename="package://armar6_description/mesh/stl/visual/hand_v3/palm_l.stl" scale="1.00000 1.00000 1.00000"/>
			</geometry>
		</collision>
	</link>
	<joint name="Index L 1 Joint" type="revolute">
		<parent link="Hand L Palm"/>
		<child link="Index L 1"/>
    <limit effort="100" lower="0" upper="1.57" velocity="3.1415"/>
		<dynamics damping="1.0" friction="0.0001"/>
		<origin rpy="-1.57081 1.48348 -0.00001" xyz="0.14531 -0.00000 0.03922"/>
		<axis xyz="1.00000 0.00000 0.00000"/>
	</joint>
	<link name="Index L 1">
		<inertial>
			<origin rpy="0.00000 -0.00000 0.00000" xyz="0.00000 0.00000 0.00000"/>
			<mass value="0.00000"/>
			<inertia ixx="0.00000" ixy="0" ixz="0" iyy="0.00000" iyz="0" izz="0.00000"/>
		</inertial>
		<visual>
			<origin rpy="0.00000 -0.00000 0.00000" xyz="0.00000 0.00000 0.00000"/>
			<geometry>
				<mesh filename="package://armar6_description/mesh/stl/visual/hand_v3/index_prox.stl" scale="1.00000 1.00000 1.00000"/>
			</geometry>
			<material name="mat_29_0">
				<color rgba="1.00000 1.00000 1.00000 1.00000" />
			</material>
		</visual>
		<collision>
			<origin rpy="0.00000 -0.00000 0.00000" xyz="0.00000 0.00000 0.00000"/>
			<geometry>
				<mesh filename="package://armar6_description/mesh/stl/visual/hand_v3/index_prox.stl" scale="1.00000 1.00000 1.00000"/>
			</geometry>
		</collision>
	</link>
	<joint name="Index L 2 Joint" type="revolute">
		<parent link="Index L 1"/>
		<child link="Index L 2"/>
    <limit effort="100" lower="0" upper="1.57" velocity="3.1415"/>
		<dynamics damping="1.0" friction="0.0001"/>
		<origin rpy="0.00000 -0.00000 0.00000" xyz="0.00000 -0.05595 -0.00000"/>
		<axis xyz="1.00000 0.00000 0.00000"/>
	</joint>
	<link name="Index L 2">
		<inertial>
			<origin rpy="0.00000 -0.00000 0.00000" xyz="0.00000 0.00000 0.00000"/>
			<mass value="0.00000"/>
			<inertia ixx="0.00000" ixy="0" ixz="0" iyy="0.00000" iyz="0" izz="0.00000"/>
		</inertial>
		<visual>
			<origin rpy="0.00000 -0.00000 0.00000" xyz="0.00000 0.00000 0.00000"/>
			<geometry>
				<mesh filename="package://armar6_description/mesh/stl/visual/hand_v3/index_inter.stl" scale="1.00000 1.00000 1.00000"/>
			</geometry>
			<material name="mat_31_0">
				<color rgba="1.00000 1.00000 1.00000 1.00000" />
			</material>
		</visual>
		<collision>
			<origin rpy="0.00000 -0.00000 0.00000" xyz="0.00000 0.00000 0.00000"/>
			<geometry>
				<mesh filename="package://armar6_description/mesh/stl/visual/hand_v3/index_inter.stl" scale="1.00000 1.00000 1.00000"/>
			</geometry>
		</collision>
	</link>
	<joint name="Index L 3 Joint" type="revolute">
		<parent link="Index L 2"/>
		<child link="Index L 3"/>
    <limit effort="100" lower="0" upper="1.57" velocity="3.1415"/>
		<dynamics damping="1.0" friction="0.0001"/>
		<origin rpy="0.00000 -0.00000 0.00000" xyz="0.00000 -0.03197 -0.00000"/>
		<axis xyz="1.00000 0.00000 0.00000"/>
	</joint>
	<link name="Index L 3">
		<inertial>
			<origin rpy="0.00000 -0.00000 0.00000" xyz="0.00000 0.00000 0.00000"/>
			<mass value="0.00000"/>
			<inertia ixx="0.00000" ixy="0" ixz="0" iyy="0.00000" iyz="0" izz="0.00000"/>
		</inertial>
		<visual>
			<origin rpy="3.14159 -0.00000 -3.14159" xyz="0.00000 0.00000 0.00000"/>
			<geometry>
				<mesh filename="package://armar6_description/mesh/stl/visual/hand_v3/index_dist.stl" scale="1.00000 1.00000 1.00000"/>
			</geometry>
			<material name="mat_33_0">
				<color rgba="1.00000 1.00000 1.00000 1.00000" />
			</material>
		</visual>
		<collision>
			<origin rpy="3.14159 -0.00000 -3.14159" xyz="0.00000 0.00000 0.00000"/>
			<geometry>
				<mesh filename="package://armar6_description/mesh/stl/visual/hand_v3/index_dist.stl" scale="1.00000 1.00000 1.00000"/>
			</geometry>
		</collision>
	</link>
	<!-- <joint name="LeftHandFingers" type="fixed"> -->
	<!-- 	<parent link="Hand L Palm"/> -->
	<!-- 	<child link="LeftHandFingers"/> -->
  <!--   <limit effort="100" lower="-1000" upper="1000" velocity="3.1415"/> -->
	<!-- 	<dynamics damping="1.0" friction="0.0001"/> -->
	<!-- 	<origin rpy="-1.57080 1.16969 0.00000" xyz="0.13032 0.00000 0.05530"/> -->
	<!-- 	<axis xyz="1.00000 0.00000 0.00000"/> -->
	<!-- </joint> -->
	<!-- <link name="LeftHandFingers"> -->
	<!-- 	<inertial> -->
	<!-- 		<origin rpy="0.00000 -0.00000 0.00000" xyz="0.00000 0.00000 0.00000"/> -->
	<!-- 		<mass value="0.00010"/> -->
	<!-- 		<inertia ixx="0.00000" ixy="0" ixz="0" iyy="0.00000" iyz="0" izz="0.00000"/> -->
	<!-- 	</inertial> -->
	<!-- </link> -->
	<joint name="left_tool_frame_joint" type="fixed">
	 	<parent link="Hand L Palm"/>
		<child link="left_tool_frame"/>
    <limit effort="100" lower="-1000" upper="1000" velocity="3.1415"/>
		<dynamics damping="1.0" friction="0.0001"/>
		<origin xyz="0.15 -0.07 0.01" rpy="1.57 0 0.7854"/>
	</joint>
	<link name="left_tool_frame">
		<inertial>
	 		<origin rpy="0.00000 -0.00000 0.00000" xyz="0.00000 0.00000 0.00000"/>
	 		<mass value="0.00010"/>
	 		<inertia ixx="0.00000" ixy="0" ixz="0" iyy="0.00000" iyz="0" izz="0.00000"/>
	  </inertial>
	</link>
	<joint name="Middle L 1 Joint" type="revolute">
		<parent link="Hand L Palm"/>
		<child link="Middle L 1"/>
    <limit effort="100" lower="0" upper="1.57" velocity="3.1415"/>
		<dynamics damping="1.0" friction="0.0001"/>
		<origin rpy="0.00000 1.57080 -4.71239" xyz="0.15172 0.00000 0.00750"/>
		<axis xyz="1.00000 0.00000 0.00000"/>
	</joint>
	<link name="Middle L 1">
		<inertial>
			<origin rpy="0.00000 -0.00000 0.00000" xyz="0.00000 0.00000 0.00000"/>
			<mass value="0.00000"/>
			<inertia ixx="0.00000" ixy="0" ixz="0" iyy="0.00000" iyz="0" izz="0.00000"/>
		</inertial>
		<visual>
			<origin rpy="0.00000 -0.00000 0.00000" xyz="0.00000 0.00000 0.00000"/>
			<geometry>
				<mesh filename="package://armar6_description/mesh/stl/visual/hand_v3/middle_prox.stl" scale="1.00000 1.00000 1.00000"/>
			</geometry>
			<material name="mat_39_0">
				<color rgba="1.00000 1.00000 1.00000 1.00000" />
			</material>
		</visual>
		<collision>
			<origin rpy="0.00000 -0.00000 0.00000" xyz="0.00000 0.00000 0.00000"/>
			<geometry>
				<mesh filename="package://armar6_description/mesh/stl/visual/hand_v3/middle_prox.stl" scale="1.00000 1.00000 1.00000"/>
			</geometry>
		</collision>
	</link>
	<joint name="Middle L 2 Joint" type="revolute">
		<parent link="Middle L 1"/>
		<child link="Middle L 2"/>
    <limit effort="100" lower="0" upper="1.57" velocity="3.1415"/>
		<dynamics damping="1.0" friction="0.0001"/>
		<origin rpy="0.00000 -0.00000 0.00000" xyz="0.00000 -0.06000 0.00000"/>
		<axis xyz="1.00000 0.00000 0.00000"/>
	</joint>
	<link name="Middle L 2">
		<inertial>
			<origin rpy="0.00000 -0.00000 0.00000" xyz="0.00000 0.00000 0.00000"/>
			<mass value="0.00000"/>
			<inertia ixx="0.00000" ixy="0" ixz="0" iyy="0.00000" iyz="0" izz="0.00000"/>
		</inertial>
		<visual>
			<origin rpy="0.00000 -0.00000 0.00000" xyz="0.00000 0.00000 0.00000"/>
			<geometry>
				<mesh filename="package://armar6_description/mesh/stl/visual/hand_v3/middle_inter.stl" scale="1.00000 1.00000 1.00000"/>
			</geometry>
			<material name="mat_41_0">
				<color rgba="1.00000 1.00000 1.00000 1.00000" />
			</material>
		</visual>
		<collision>
			<origin rpy="0.00000 -0.00000 0.00000" xyz="0.00000 0.00000 0.00000"/>
			<geometry>
				<mesh filename="package://armar6_description/mesh/stl/visual/hand_v3/middle_inter.stl" scale="1.00000 1.00000 1.00000"/>
			</geometry>
		</collision>
	</link>
	<joint name="Middle L 3 Joint" type="revolute">
		<parent link="Middle L 2"/>
		<child link="Middle L 3"/>
    <limit effort="100" lower="0" upper="1.57" velocity="3.1415"/>
		<dynamics damping="1.0" friction="0.0001"/>
		<origin rpy="0.00000 -0.00000 0.00000" xyz="0.00000 -0.03900 0.00000"/>
		<axis xyz="1.00000 0.00000 0.00000"/>
	</joint>
	<link name="Middle L 3">
		<inertial>
			<origin rpy="0.00000 -0.00000 0.00000" xyz="0.00000 0.00000 0.00000"/>
			<mass value="0.00000"/>
			<inertia ixx="0.00000" ixy="0" ixz="0" iyy="0.00000" iyz="0" izz="0.00000"/>
		</inertial>
		<visual>
			<origin rpy="3.14159 -0.00000 -3.14159" xyz="0.00000 0.00000 0.00000"/>
			<geometry>
				<mesh filename="package://armar6_description/mesh/stl/visual/hand_v3/middle_dist.stl" scale="1.00000 1.00000 1.00000"/>
			</geometry>
			<material name="mat_43_0">
				<color rgba="1.00000 1.00000 1.00000 1.00000" />
			</material>
		</visual>
		<collision>
			<origin rpy="3.14159 -0.00000 -3.14159" xyz="0.00000 0.00000 0.00000"/>
			<geometry>
				<mesh filename="package://armar6_description/mesh/stl/visual/hand_v3/middle_dist.stl" scale="1.00000 1.00000 1.00000"/>
			</geometry>
		</collision>
	</link>
	<joint name="Pinky L 1 Joint" type="revolute">
		<parent link="Hand L Palm"/>
		<child link="Pinky L 1"/>
    <limit effort="100" lower="0" upper="1.57" velocity="3.1415"/>
		<dynamics damping="1.0" friction="0.0001"/>
		<origin rpy="1.57080 1.16969 3.14159" xyz="0.13032 -0.00000 -0.05530"/>
		<axis xyz="1.00000 0.00000 0.00000"/>
	</joint>
	<link name="Pinky L 1">
		<inertial>
			<origin rpy="0.00000 -0.00000 0.00000" xyz="0.00000 0.00000 0.00000"/>
			<mass value="0.00000"/>
			<inertia ixx="0.00000" ixy="0" ixz="0" iyy="0.00000" iyz="0" izz="0.00000"/>
		</inertial>
		<visual>
			<origin rpy="0.00000 -0.00000 0.00000" xyz="0.00000 0.00000 0.00000"/>
			<geometry>
				<mesh filename="package://armar6_description/mesh/stl/visual/hand_v3/pinky_prox.stl" scale="1.00000 1.00000 1.00000"/>
			</geometry>
			<material name="mat_45_0">
				<color rgba="1.00000 1.00000 1.00000 1.00000" />
			</material>
		</visual>
		<collision>
			<origin rpy="0.00000 -0.00000 0.00000" xyz="0.00000 0.00000 0.00000"/>
			<geometry>
				<mesh filename="package://armar6_description/mesh/stl/visual/hand_v3/pinky_prox.stl" scale="1.00000 1.00000 1.00000"/>
			</geometry>
		</collision>
	</link>
	<joint name="Pinky L 2 Joint" type="revolute">
		<parent link="Pinky L 1"/>
		<child link="Pinky L 2"/>
    <limit effort="100" lower="0" upper="1.57" velocity="3.1415"/>
		<dynamics damping="1.0" friction="0.0001"/>
		<origin rpy="0.00000 -0.00000 0.00000" xyz="-0.00000 -0.04610 0.00000"/>
		<axis xyz="1.00000 0.00000 0.00000"/>
	</joint>
	<link name="Pinky L 2">
		<inertial>
			<origin rpy="0.00000 -0.00000 0.00000" xyz="0.00000 0.00000 0.00000"/>
			<mass value="0.00000"/>
			<inertia ixx="0.00000" ixy="0" ixz="0" iyy="0.00000" iyz="0" izz="0.00000"/>
		</inertial>
		<visual>
			<origin rpy="0.00000 -0.00000 0.00000" xyz="0.00000 0.00000 0.00000"/>
			<geometry>
				<mesh filename="package://armar6_description/mesh/stl/visual/hand_v3/pinky_inter.stl" scale="1.00000 1.00000 1.00000"/>
			</geometry>
			<material name="mat_47_0">
				<color rgba="1.00000 1.00000 1.00000 1.00000" />
			</material>
		</visual>
		<collision>
			<origin rpy="0.00000 -0.00000 0.00000" xyz="0.00000 0.00000 0.00000"/>
			<geometry>
				<mesh filename="package://armar6_description/mesh/stl/visual/hand_v3/pinky_inter.stl" scale="1.00000 1.00000 1.00000"/>
			</geometry>
		</collision>
	</link>
	<joint name="Pinky L 3 Joint" type="revolute">
		<parent link="Pinky L 2"/>
		<child link="Pinky L 3"/>
    <limit effort="100" lower="0" upper="1.57" velocity="3.1415"/>
		<dynamics damping="1.0" friction="0.0001"/>
		<origin rpy="0.00000 -0.00000 0.00000" xyz="-0.00000 -0.02706 0.00000"/>
		<axis xyz="1.00000 0.00000 0.00000"/>
	</joint>
	<link name="Pinky L 3">
		<inertial>
			<origin rpy="0.00000 -0.00000 0.00000" xyz="0.00000 0.00000 0.00000"/>
			<mass value="0.00000"/>
			<inertia ixx="0.00000" ixy="0" ixz="0" iyy="0.00000" iyz="0" izz="0.00000"/>
		</inertial>
		<visual>
			<origin rpy="-3.14159 -0.00000 3.14159" xyz="0.00000 0.00000 0.00000"/>
			<geometry>
				<mesh filename="package://armar6_description/mesh/stl/visual/hand_v3/pinky_dist.stl" scale="1.00000 1.00000 1.00000"/>
			</geometry>
			<material name="mat_49_0">
				<color rgba="1.00000 1.00000 1.00000 1.00000" />
			</material>
		</visual>
		<collision>
			<origin rpy="-3.14159 -0.00000 3.14159" xyz="0.00000 0.00000 0.00000"/>
			<geometry>
				<mesh filename="package://armar6_description/mesh/stl/visual/hand_v3/pinky_dist.stl" scale="1.00000 1.00000 1.00000"/>
			</geometry>
		</collision>
	</link>
	<joint name="Ring L 1 Joint" type="revolute">
		<parent link="Hand L Palm"/>
		<child link="Ring L 1"/>
    <limit effort="100" lower="0" upper="1.57" velocity="3.1415"/>
		<dynamics damping="1.0" friction="0.0001"/>
		<origin rpy="1.57080 1.39616 3.14159" xyz="0.14652 0.00000 -0.02630"/>
		<axis xyz="1.00000 0.00000 0.00000"/>
	</joint>
	<link name="Ring L 1">
		<inertial>
			<origin rpy="0.00000 -0.00000 0.00000" xyz="0.00000 0.00000 0.00000"/>
			<mass value="0.00000"/>
			<inertia ixx="0.00000" ixy="0" ixz="0" iyy="0.00000" iyz="0" izz="0.00000"/>
		</inertial>
		<visual>
			<origin rpy="0.00000 -0.00000 0.00000" xyz="0.00000 0.00000 0.00000"/>
			<geometry>
				<mesh filename="package://armar6_description/mesh/stl/visual/hand_v3/ring_prox.stl" scale="1.00000 1.00000 1.00000"/>
			</geometry>
			<material name="mat_51_0">
				<color rgba="1.00000 1.00000 1.00000 1.00000" />
			</material>
		</visual>
		<collision>
			<origin rpy="0.00000 -0.00000 0.00000" xyz="0.00000 0.00000 0.00000"/>
			<geometry>
				<mesh filename="package://armar6_description/mesh/stl/visual/hand_v3/ring_prox.stl" scale="1.00000 1.00000 1.00000"/>
			</geometry>
		</collision>
	</link>
	<joint name="Ring L 2 Joint" type="revolute">
		<parent link="Ring L 1"/>
		<child link="Ring L 2"/>
    <limit effort="100" lower="0" upper="1.57" velocity="3.1415"/>
		<dynamics damping="1.0" friction="0.0001"/>
		<origin rpy="0.00000 -0.00000 0.00000" xyz="0.00000 -0.05506 0.00000"/>
		<axis xyz="1.00000 0.00000 0.00000"/>
	</joint>
	<link name="Ring L 2">
		<inertial>
			<origin rpy="0.00000 -0.00000 0.00000" xyz="0.00000 0.00000 0.00000"/>
			<mass value="0.00000"/>
			<inertia ixx="0.00000" ixy="0" ixz="0" iyy="0.00000" iyz="0" izz="0.00000"/>
		</inertial>
		<visual>
			<origin rpy="0.00000 -0.00000 0.00000" xyz="0.00000 0.00000 0.00000"/>
			<geometry>
				<mesh filename="package://armar6_description/mesh/stl/visual/hand_v3/ring_inter.stl" scale="1.00000 1.00000 1.00000"/>
			</geometry>
			<material name="mat_53_0">
				<color rgba="1.00000 1.00000 1.00000 1.00000" />
			</material>
		</visual>
		<collision>
			<origin rpy="0.00000 -0.00000 0.00000" xyz="0.00000 0.00000 0.00000"/>
			<geometry>
				<mesh filename="package://armar6_description/mesh/stl/visual/hand_v3/ring_inter.stl" scale="1.00000 1.00000 1.00000"/>
			</geometry>
		</collision>
	</link>
	<joint name="Ring L 3 Joint" type="revolute">
		<parent link="Ring L 2"/>
		<child link="Ring L 3"/>
    <limit effort="100" lower="0" upper="1.57" velocity="3.1415"/>
		<dynamics damping="1.0" friction="0.0001"/>
		<origin rpy="0.00000 -0.00000 0.00000" xyz="0.00000 -0.03704 0.00000"/>
		<axis xyz="1.00000 0.00000 0.00000"/>
	</joint>
	<link name="Ring L 3">
		<inertial>
			<origin rpy="0.00000 -0.00000 0.00000" xyz="0.00000 0.00000 0.00000"/>
			<mass value="0.00000"/>
			<inertia ixx="0.00000" ixy="0" ixz="0" iyy="0.00000" iyz="0" izz="0.00000"/>
		</inertial>
		<visual>
			<origin rpy="1.57080 -0.00000 -3.14159" xyz="0.00000 0.00000 0.00000"/>
			<geometry>
				<mesh filename="package://armar6_description/mesh/stl/visual/hand_v3/ring_dist.stl" scale="1.00000 1.00000 1.00000"/>
			</geometry>
			<material name="mat_55_0">
				<color rgba="1.00000 1.00000 1.00000 1.00000" />
			</material>
		</visual>
		<collision>
			<origin rpy="1.57080 -0.00000 -3.14159" xyz="0.00000 0.00000 0.00000"/>
			<geometry>
				<mesh filename="package://armar6_description/mesh/stl/visual/hand_v3/ring_dist.stl" scale="1.00000 1.00000 1.00000"/>
			</geometry>
		</collision>
	</link>
	<joint name="Thumb L 1 Joint" type="revolute">
		<parent link="Hand L Palm"/>
		<child link="Thumb L 1"/>
    <limit effort="100" lower="0" upper="1.57" velocity="3.1415"/>
		<dynamics damping="1.0" friction="0.0001"/>
		<origin rpy="-0.22370 -1.18631 0.20756" xyz="0.08111 -0.04691 0.03950"/>
		<axis xyz="1.00000 0.00000 0.00000"/>
	</joint>
	<link name="Thumb L 1">
		<inertial>
			<origin rpy="0.00000 -0.00000 0.00000" xyz="0.00000 0.00000 0.00000"/>
			<mass value="0.00000"/>
			<inertia ixx="0.00000" ixy="0" ixz="0" iyy="0.00000" iyz="0" izz="0.00000"/>
		</inertial>
		<visual>
			<origin rpy="0.00000 -0.00000 0.00000" xyz="0.00000 0.00000 0.00000"/>
			<geometry>
				<mesh filename="package://armar6_description/mesh/stl/visual/hand_v3/thumb_prox.stl" scale="1.00000 1.00000 1.00000"/>
			</geometry>
			<material name="mat_57_0">
				<color rgba="1.00000 1.00000 1.00000 1.00000" />
			</material>
		</visual>
		<collision>
			<origin rpy="0.00000 -0.00000 0.00000" xyz="0.00000 0.00000 0.00000"/>
			<geometry>
				<mesh filename="package://armar6_description/mesh/stl/visual/hand_v3/thumb_prox.stl" scale="1.00000 1.00000 1.00000"/>
			</geometry>
		</collision>
	</link>
	<joint name="Thumb L 2 Joint" type="revolute">
		<parent link="Thumb L 1"/>
		<child link="Thumb L 2"/>
    <limit effort="100" lower="0" upper="1.57" velocity="3.1415"/>
		<dynamics damping="1.0" friction="0.0001"/>
		<origin rpy="0.00000 -0.00000 0.00000" xyz="0.00002 -0.04408 -0.00005"/>
		<axis xyz="1.00000 0.00000 0.00000"/>
	</joint>
	<link name="Thumb L 2">
		<inertial>
			<origin rpy="0.00000 -0.00000 0.00000" xyz="0.00000 0.00000 0.00000"/>
			<mass value="0.00000"/>
			<inertia ixx="0.00000" ixy="0" ixz="0" iyy="0.00000" iyz="0" izz="0.00000"/>
		</inertial>
		<visual>
			<origin rpy="3.14159 -0.00000 -3.14159" xyz="0.00000 0.00000 0.00000"/>
			<geometry>
				<mesh filename="package://armar6_description/mesh/stl/visual/hand_v3/thumb_dist.stl" scale="1.00000 1.00000 1.00000"/>
			</geometry>
			<material name="mat_59_0">
				<color rgba="1.00000 1.00000 1.00000 1.00000" />
			</material>
		</visual>
		<collision>
			<origin rpy="3.14159 -0.00000 -3.14159" xyz="0.00000 0.00000 0.00000"/>
			<geometry>
				<mesh filename="package://armar6_description/mesh/stl/visual/hand_v3/thumb_dist.stl" scale="1.00000 1.00000 1.00000"/>
			</geometry>
		</collision>
	</link>

  <!-- right hand -->

  <!-- welded right hand commenting out -->
  <!-- <joint name="hand_fixed_joint_r1" type="fixed"> -->
  <!--   <parent link="arm_t8_r1"/> -->
  <!--   <child link="hand_fixed_r1"/> -->
  <!--   <origin rpy="0 0 0" xyz="-0.022 0 0.2645"/> -->
  <!-- </joint> -->
  <!-- <link name="hand_fixed_r1"> -->
  <!--   <inertial> -->
  <!--     <origin rpy="0 0 0" xyz="0.015 0.0 -0.025"/> -->
  <!--     <mass value="0.985765"/> -->
  <!--     <inertia ixx="0.007464023" ixy="0" ixz="0" iyy="0.0081043" iyz="0" izz="0.0033194"/> -->
  <!--   </inertial> -->
  <!--   <visual> -->
  <!--     <origin rpy="0 0 0" xyz="0 0 0"/> -->
  <!--     <geometry> -->
  <!--       <mesh filename="package://armar6_description/meshes/visual/right_hand_fixed.obj"/> -->
  <!--     </geometry> -->
  <!--     <material name="armar_metal"> -->
  <!--       <color rgba="0.251 0.251 0.251 1"/> -->
  <!--     </material> -->
  <!--   </visual> -->
  <!--   <collision> -->
  <!--     <origin rpy="0 0 0" xyz="0 0 0"/> -->
  <!--     <geometry> -->
  <!--       <mesh filename="package://armar6_description/meshes/collision/right_hand_fixed.obj"/> -->
  <!--     </geometry> -->
  <!--   </collision> -->
  <!-- </link> -->

	<joint name="jointfix_46_76" type="fixed">
		<parent link="arm_t8_r1"/>
		<child link="Hand R Palm"/>
		<dynamics damping="1.0" friction="0.0001"/>
		<origin rpy="0.00000 -1.57080 1.57080" xyz="0.00000 0.00000 0.14000"/>
		<axis xyz="0.00000 0.00000 0.00000"/>
	</joint>
	<!-- <link name="HandR_Base~Hand R Root"> -->
	<!-- 	<inertial> -->
	<!-- 		<origin rpy="0.00000 -0.00000 0.00000" xyz="0.00000 0.00000 0.00000"/> -->
	<!-- 		<mass value="0.00010"/> -->
	<!-- 		<inertia ixx="0.00000" ixy="0" ixz="0" iyy="0.00000" iyz="0" izz="0.00000"/> -->
	<!-- 	</inertial> -->
	<!-- </link> -->
	<!-- <joint name="jointfix_28_78" type="fixed"> -->
	<!-- 	<parent link="HandR_Base~Hand R Root"/> -->
	<!-- 	<child link="Hand R Col"/> -->
	<!-- 	<dynamics damping="1.0" friction="0.0001"/> -->
	<!-- 	<origin rpy="0.00000 -0.00000 0.00000" xyz="0.00000 0.00000 0.00000"/> -->
	<!-- 	<axis xyz="0.00000 0.00000 0.00000"/> -->
	<!-- </joint> -->
	<!-- <link name="Hand R Col"> -->
	<!-- 	<inertial> -->
	<!-- 		<origin rpy="0.00000 -0.00000 0.00000" xyz="0.10000 0.01000 -0.00200"/> -->
	<!-- 		<mass value="0.92710"/> -->
	<!-- 		<inertia ixx="0.00000" ixy="0" ixz="0" iyy="0.00000" iyz="0" izz="0.00000"/> -->
	<!-- 	</inertial> -->
	<!-- </link> -->
	<!-- <joint name="jointfix_45_78" type="fixed"> -->
	<!-- 	<parent link="HandR_Base~Hand R Root"/> -->
	<!-- 	<child link="Hand R Palm"/> -->
	<!-- 	<dynamics damping="1.0" friction="0.0001"/> -->
	<!-- 	<origin rpy="0.00000 -0.00000 0.00000" xyz="0.00000 0.00000 0.00000"/> -->
	<!-- 	<axis xyz="0.00000 0.00000 0.00000"/> -->
	<!-- </joint> -->
	<link name="Hand R Palm">
		<inertial>
			<origin rpy="0.00000 -0.00000 0.00000" xyz="0.00000 0.00000 0.00000"/>
			<mass value="0.00000"/>
			<inertia ixx="0.00000" ixy="0" ixz="0" iyy="0.00000" iyz="0" izz="0.00000"/>
		</inertial>
		<visual>
			<origin rpy="0.00000 -0.00000 0.00000" xyz="0.00000 0.00000 0.00000"/>
			<geometry>
				<mesh filename="package://armar6_description/mesh/stl/visual/hand_v3/palm_r.stl" scale="1.00000 1.00000 1.00000"/>
			</geometry>
			<material name="mat_79_0">
				<color rgba="1.00000 1.00000 1.00000 1.00000" />
			</material>
		</visual>
		<collision>
			<origin rpy="0.00000 -0.00000 0.00000" xyz="0.00000 0.00000 0.00000"/>
			<geometry>
				<mesh filename="package://armar6_description/mesh/stl/visual/hand_v3/palm_r.stl" scale="1.00000 1.00000 1.00000"/>
			</geometry>
		</collision>
	</link>
	<joint name="Index R 1 Joint" type="revolute">
		<parent link="Hand R Palm"/>
		<child link="Index R 1"/>
    <limit effort="100" lower="0" upper="1.57" velocity="3.1415"/>
		<dynamics damping="1.0" friction="0.0001"/>
		<origin rpy="1.57081 1.48348 -3.14158" xyz="0.14531 0.00000 -0.03922"/>
		<axis xyz="1.00000 0.00000 0.00000"/>
	</joint>
	<link name="Index R 1">
		<inertial>
			<origin rpy="0.00000 -0.00000 0.00000" xyz="0.00000 0.00000 0.00000"/>
			<mass value="0.00000"/>
			<inertia ixx="0.00000" ixy="0" ixz="0" iyy="0.00000" iyz="0" izz="0.00000"/>
		</inertial>
		<visual>
			<origin rpy="0.00000 -0.00000 0.00000" xyz="0.00000 0.00000 0.00000"/>
			<geometry>
				<mesh filename="package://armar6_description/mesh/stl/visual/hand_v3/index_prox.stl" scale="1.00000 1.00000 1.00000"/>
			</geometry>
			<material name="mat_81_0">
				<color rgba="1.00000 1.00000 1.00000 1.00000" />
			</material>
		</visual>
		<collision>
			<origin rpy="0.00000 -0.00000 0.00000" xyz="0.00000 0.00000 0.00000"/>
			<geometry>
				<mesh filename="package://armar6_description/mesh/stl/visual/hand_v3/index_prox.stl" scale="1.00000 1.00000 1.00000"/>
			</geometry>
		</collision>
	</link>
	<joint name="Index R 2 Joint" type="revolute">
		<parent link="Index R 1"/>
		<child link="Index R 2"/>
    <limit effort="100" lower="0" upper="1.57" velocity="3.1415"/>
		<dynamics damping="1.0" friction="0.0001"/>
		<origin rpy="0.00000 -0.00000 0.00000" xyz="0.00000 -0.05595 -0.00000"/>
		<axis xyz="1.00000 0.00000 0.00000"/>
	</joint>
	<link name="Index R 2">
		<inertial>
			<origin rpy="0.00000 -0.00000 0.00000" xyz="0.00000 0.00000 0.00000"/>
			<mass value="0.00000"/>
			<inertia ixx="0.00000" ixy="0" ixz="0" iyy="0.00000" iyz="0" izz="0.00000"/>
		</inertial>
		<visual>
			<origin rpy="0.00000 -0.00000 0.00000" xyz="0.00000 0.00000 0.00000"/>
			<geometry>
				<mesh filename="package://armar6_description/mesh/stl/visual/hand_v3/index_inter.stl" scale="1.00000 1.00000 1.00000"/>
			</geometry>
			<material name="mat_83_0">
				<color rgba="1.00000 1.00000 1.00000 1.00000" />
			</material>
		</visual>
		<collision>
			<origin rpy="0.00000 -0.00000 0.00000" xyz="0.00000 0.00000 0.00000"/>
			<geometry>
				<mesh filename="package://armar6_description/mesh/stl/visual/hand_v3/index_inter.stl" scale="1.00000 1.00000 1.00000"/>
			</geometry>
		</collision>
	</link>
	<joint name="Index R 3 Joint" type="revolute">
		<parent link="Index R 2"/>
		<child link="Index R 3"/>
    <limit effort="100" lower="0" upper="1.57" velocity="3.1415"/>
		<dynamics damping="1.0" friction="0.0001"/>
		<origin rpy="0.00000 -0.00000 0.00000" xyz="0.00000 -0.03197 -0.00000"/>
		<axis xyz="1.00000 0.00000 0.00000"/>
	</joint>
	<link name="Index R 3">
		<inertial>
			<origin rpy="0.00000 -0.00000 0.00000" xyz="0.00000 0.00000 0.00000"/>
			<mass value="0.00000"/>
			<inertia ixx="0.00000" ixy="0" ixz="0" iyy="0.00000" iyz="0" izz="0.00000"/>
		</inertial>
		<visual>
			<origin rpy="3.14159 -0.00000 -3.14159" xyz="0.00000 0.00000 0.00000"/>
			<geometry>
				<mesh filename="package://armar6_description/mesh/stl/visual/hand_v3/index_dist.stl" scale="1.00000 1.00000 1.00000"/>
			</geometry>
			<material name="mat_85_0">
				<color rgba="1.00000 1.00000 1.00000 1.00000" />
			</material>
		</visual>
		<collision>
			<origin rpy="3.14159 -0.00000 -3.14159" xyz="0.00000 0.00000 0.00000"/>
			<geometry>
				<mesh filename="package://armar6_description/mesh/stl/visual/hand_v3/index_dist.stl" scale="1.00000 1.00000 1.00000"/>
			</geometry>
		</collision>
	</link>
	<joint name="Middle R 1 Joint" type="revolute">
		<parent link="Hand R Palm"/>
		<child link="Middle R 1"/>
    <limit effort="100" lower="0" upper="1.57" velocity="3.1415"/>
		<dynamics damping="1.0" friction="0.0001"/>
		<origin rpy="0.00000 1.57080 -4.71239" xyz="0.15172 0.00000 -0.00750"/>
		<axis xyz="1.00000 0.00000 0.00000"/>
	</joint>
	<link name="Middle R 1">
		<inertial>
			<origin rpy="0.00000 -0.00000 0.00000" xyz="0.00000 0.00000 0.00000"/>
			<mass value="0.00000"/>
			<inertia ixx="0.00000" ixy="0" ixz="0" iyy="0.00000" iyz="0" izz="0.00000"/>
		</inertial>
		<visual>
			<origin rpy="0.00000 -0.00000 0.00000" xyz="0.00000 0.00000 0.00000"/>
			<geometry>
				<mesh filename="package://armar6_description/mesh/stl/visual/hand_v3/middle_prox.stl" scale="1.00000 1.00000 1.00000"/>
			</geometry>
			<material name="mat_87_0">
				<color rgba="1.00000 1.00000 1.00000 1.00000" />
			</material>
		</visual>
		<collision>
			<origin rpy="0.00000 -0.00000 0.00000" xyz="0.00000 0.00000 0.00000"/>
			<geometry>
				<mesh filename="package://armar6_description/mesh/stl/visual/hand_v3/middle_prox.stl" scale="1.00000 1.00000 1.00000"/>
			</geometry>
		</collision>
	</link>
	<joint name="Middle R 2 Joint" type="revolute">
		<parent link="Middle R 1"/>
		<child link="Middle R 2"/>
    <limit effort="100" lower="0" upper="1.57" velocity="3.1415"/>
		<dynamics damping="1.0" friction="0.0001"/>
		<origin rpy="0.00000 -0.00000 0.00000" xyz="0.00000 -0.06000 0.00000"/>
		<axis xyz="1.00000 0.00000 0.00000"/>
	</joint>
	<link name="Middle R 2">
		<inertial>
			<origin rpy="0.00000 -0.00000 0.00000" xyz="0.00000 0.00000 0.00000"/>
			<mass value="0.00000"/>
			<inertia ixx="0.00000" ixy="0" ixz="0" iyy="0.00000" iyz="0" izz="0.00000"/>
		</inertial>
		<visual>
			<origin rpy="0.00000 -0.00000 0.00000" xyz="0.00000 0.00000 0.00000"/>
			<geometry>
				<mesh filename="package://armar6_description/mesh/stl/visual/hand_v3/middle_inter.stl" scale="1.00000 1.00000 1.00000"/>
			</geometry>
			<material name="mat_89_0">
				<color rgba="1.00000 1.00000 1.00000 1.00000" />
			</material>
		</visual>
		<collision>
			<origin rpy="0.00000 -0.00000 0.00000" xyz="0.00000 0.00000 0.00000"/>
			<geometry>
				<mesh filename="package://armar6_description/mesh/stl/visual/hand_v3/middle_inter.stl" scale="1.00000 1.00000 1.00000"/>
			</geometry>
		</collision>
	</link>
	<joint name="Middle R 3 Joint" type="revolute">
		<parent link="Middle R 2"/>
		<child link="Middle R 3"/>
    <limit effort="100" lower="0" upper="1.57" velocity="3.1415"/>
		<dynamics damping="1.0" friction="0.0001"/>
		<origin rpy="0.00000 -0.00000 0.00000" xyz="0.00000 -0.03900 0.00000"/>
		<axis xyz="1.00000 0.00000 0.00000"/>
	</joint>
	<link name="Middle R 3">
		<inertial>
			<origin rpy="0.00000 -0.00000 0.00000" xyz="0.00000 0.00000 0.00000"/>
			<mass value="0.00000"/>
			<inertia ixx="0.00000" ixy="0" ixz="0" iyy="0.00000" iyz="0" izz="0.00000"/>
		</inertial>
		<visual>
			<origin rpy="3.14159 -0.00000 3.14159" xyz="0.00000 0.00000 0.00000"/>
			<geometry>
				<mesh filename="package://armar6_description/mesh/stl/visual/hand_v3/middle_dist.stl" scale="1.00000 1.00000 1.00000"/>
			</geometry>
			<material name="mat_91_0">
				<color rgba="1.00000 1.00000 1.00000 1.00000" />
			</material>
		</visual>
		<collision>
			<origin rpy="3.14159 -0.00000 3.14159" xyz="0.00000 0.00000 0.00000"/>
			<geometry>
				<mesh filename="package://armar6_description/mesh/stl/visual/hand_v3/middle_dist.stl" scale="1.00000 1.00000 1.00000"/>
			</geometry>
		</collision>
	</link>
	<joint name="Pinky R 1 Joint" type="revolute">
		<parent link="Hand R Palm"/>
		<child link="Pinky R 1"/>
    <limit effort="100" lower="0" upper="1.57" velocity="3.1415"/>
		<dynamics damping="1.0" friction="0.0001"/>
		<origin rpy="-1.57080 1.16969 0.00000" xyz="0.13032 0.00000 0.05530"/>
		<axis xyz="1.00000 0.00000 0.00000"/>
	</joint>
	<link name="Pinky R 1">
		<inertial>
			<origin rpy="0.00000 -0.00000 0.00000" xyz="0.00000 0.00000 0.00000"/>
			<mass value="0.00000"/>
			<inertia ixx="0.00000" ixy="0" ixz="0" iyy="0.00000" iyz="0" izz="0.00000"/>
		</inertial>
		<visual>
			<origin rpy="0.00000 -0.00000 0.00000" xyz="0.00000 0.00000 0.00000"/>
			<geometry>
				<mesh filename="package://armar6_description/mesh/stl/visual/hand_v3/pinky_prox.stl" scale="1.00000 1.00000 1.00000"/>
			</geometry>
			<material name="mat_93_0">
				<color rgba="1.00000 1.00000 1.00000 1.00000" />
			</material>
		</visual>
		<collision>
			<origin rpy="0.00000 -0.00000 0.00000" xyz="0.00000 0.00000 0.00000"/>
			<geometry>
				<mesh filename="package://armar6_description/mesh/stl/visual/hand_v3/pinky_prox.stl" scale="1.00000 1.00000 1.00000"/>
			</geometry>
		</collision>
	</link>
	<joint name="Pinky R 2 Joint" type="revolute">
		<parent link="Pinky R 1"/>
		<child link="Pinky R 2"/>
    <limit effort="100" lower="0" upper="1.57" velocity="3.1415"/>
		<dynamics damping="1.0" friction="0.0001"/>
		<origin rpy="0.00000 -0.00000 0.00000" xyz="0.00000 -0.04610 0.00000"/>
		<axis xyz="1.00000 0.00000 0.00000"/>
	</joint>
	<link name="Pinky R 2">
		<inertial>
			<origin rpy="0.00000 -0.00000 0.00000" xyz="0.00000 0.00000 0.00000"/>
			<mass value="0.00000"/>
			<inertia ixx="0.00000" ixy="0" ixz="0" iyy="0.00000" iyz="0" izz="0.00000"/>
		</inertial>
		<visual>
			<origin rpy="0.00000 -0.00000 0.00000" xyz="0.00000 0.00000 0.00000"/>
			<geometry>
				<mesh filename="package://armar6_description/mesh/stl/visual/hand_v3/pinky_inter.stl" scale="1.00000 1.00000 1.00000"/>
			</geometry>
			<material name="mat_95_0">
				<color rgba="1.00000 1.00000 1.00000 1.00000" />
			</material>
		</visual>
		<collision>
			<origin rpy="0.00000 -0.00000 0.00000" xyz="0.00000 0.00000 0.00000"/>
			<geometry>
				<mesh filename="package://armar6_description/mesh/stl/visual/hand_v3/pinky_inter.stl" scale="1.00000 1.00000 1.00000"/>
			</geometry>
		</collision>
	</link>
	<joint name="Pinky R 3 Joint" type="revolute">
		<parent link="Pinky R 2"/>
		<child link="Pinky R 3"/>
    <limit effort="100" lower="0" upper="1.57" velocity="3.1415"/>
		<dynamics damping="1.0" friction="0.0001"/>
		<origin rpy="0.00000 -0.00000 0.00000" xyz="0.00000 -0.02706 -0.00000"/>
		<axis xyz="1.00000 0.00000 0.00000"/>
	</joint>
	<link name="Pinky R 3">
		<inertial>
			<origin rpy="0.00000 -0.00000 0.00000" xyz="0.00000 0.00000 0.00000"/>
			<mass value="0.00000"/>
			<inertia ixx="0.00000" ixy="0" ixz="0" iyy="0.00000" iyz="0" izz="0.00000"/>
		</inertial>
		<visual>
			<origin rpy="3.14159 -0.00000 -3.14159" xyz="0.00000 0.00000 0.00000"/>
			<geometry>
				<mesh filename="package://armar6_description/mesh/stl/visual/hand_v3/pinky_dist.stl" scale="1.00000 1.00000 1.00000"/>
			</geometry>
			<material name="mat_97_0">
				<color rgba="1.00000 1.00000 1.00000 1.00000" />
			</material>
		</visual>
		<collision>
			<origin rpy="3.14159 -0.00000 -3.14159" xyz="0.00000 0.00000 0.00000"/>
			<geometry>
				<mesh filename="package://armar6_description/mesh/stl/visual/hand_v3/pinky_dist.stl" scale="1.00000 1.00000 1.00000"/>
			</geometry>
		</collision>
	</link>
	<!-- <joint name="RightHandFingers" type="fixed"> -->
	<!-- 	<parent link="Hand R Palm"/> -->
	<!-- 	<child link="RightHandFingers"/> -->
  <!--   <limit effort="100" lower="0" upper="1.57" velocity="3.1415"/> -->
	<!-- 	<dynamics damping="1.0" friction="0.0001"/> -->
	<!-- 	<origin rpy="-1.57080 1.16969 0.00000" xyz="0.13032 0.00000 0.05530"/> -->
	<!-- 	<axis xyz="1.00000 0.00000 0.00000"/> -->
	<!-- </joint> -->
	<!-- <link name="RightHandFingers"> -->
	<!-- 	<inertial> -->
	<!-- 		<origin rpy="0.00000 -0.00000 0.00000" xyz="0.00000 0.00000 0.00000"/> -->
	<!-- 		<mass value="0.00010"/> -->
	<!-- 		<inertia ixx="0.00000" ixy="0" ixz="0" iyy="0.00000" iyz="0" izz="0.00000"/> -->
	<!-- 	</inertial> -->
	<!-- </link> -->
	<joint name="right_tool_frame_joint" type="fixed">
	 	<parent link="Hand R Palm"/>
		<child link="right_tool_frame"/>
    <limit effort="100" lower="-1000" upper="1000" velocity="3.1415"/>
		<dynamics damping="1.0" friction="0.0001"/>
		<origin xyz="0.15 -0.07 -0.01" rpy="1.57 0 0.7854"/>
	</joint>
	<link name="right_tool_frame">
		<inertial>
	 		<origin rpy="0.00000 -0.00000 0.00000" xyz="0.00000 0.00000 0.00000"/>
	 		<mass value="0.00010"/>
	 		<inertia ixx="0.00000" ixy="0" ixz="0" iyy="0.00000" iyz="0" izz="0.00000"/>
	  </inertial>
	</link>
	<joint name="Ring R 1 Joint" type="revolute">
		<parent link="Hand R Palm"/>
		<child link="Ring R 1"/>
    <limit effort="100" lower="0" upper="1.57" velocity="3.1415"/>
		<dynamics damping="1.0" friction="0.0001"/>
		<origin rpy="-1.57080 1.39616 0.00000" xyz="0.14652 0.00000 0.02630"/>
		<axis xyz="1.00000 0.00000 0.00000"/>
	</joint>
	<link name="Ring R 1">
		<inertial>
			<origin rpy="0.00000 -0.00000 0.00000" xyz="0.00000 0.00000 0.00000"/>
			<mass value="0.00000"/>
			<inertia ixx="0.00000" ixy="0" ixz="0" iyy="0.00000" iyz="0" izz="0.00000"/>
		</inertial>
		<visual>
			<origin rpy="0.00000 -0.00000 0.00000" xyz="0.00000 0.00000 0.00000"/>
			<geometry>
				<mesh filename="package://armar6_description/mesh/stl/visual/hand_v3/ring_prox.stl" scale="1.00000 1.00000 1.00000"/>
			</geometry>
			<material name="mat_103_0">
				<color rgba="1.00000 1.00000 1.00000 1.00000" />
			</material>
		</visual>
		<collision>
			<origin rpy="0.00000 -0.00000 0.00000" xyz="0.00000 0.00000 0.00000"/>
			<geometry>
				<mesh filename="package://armar6_description/mesh/stl/visual/hand_v3/ring_prox.stl" scale="1.00000 1.00000 1.00000"/>
			</geometry>
		</collision>
	</link>
	<joint name="Ring R 2 Joint" type="revolute">
		<parent link="Ring R 1"/>
		<child link="Ring R 2"/>
    <limit effort="100" lower="0" upper="1.57" velocity="3.1415"/>
		<dynamics damping="1.0" friction="0.0001"/>
		<origin rpy="0.00000 -0.00000 0.00000" xyz="0.00000 -0.05506 0.00000"/>
		<axis xyz="1.00000 0.00000 0.00000"/>
	</joint>
	<link name="Ring R 2">
		<inertial>
			<origin rpy="0.00000 -0.00000 0.00000" xyz="0.00000 0.00000 0.00000"/>
			<mass value="0.00000"/>
			<inertia ixx="0.00000" ixy="0" ixz="0" iyy="0.00000" iyz="0" izz="0.00000"/>
		</inertial>
		<visual>
			<origin rpy="0.00000 -0.00000 0.00000" xyz="0.00000 0.00000 0.00000"/>
			<geometry>
				<mesh filename="package://armar6_description/mesh/stl/visual/hand_v3/ring_inter.stl" scale="1.00000 1.00000 1.00000"/>
			</geometry>
			<material name="mat_105_0">
				<color rgba="1.00000 1.00000 1.00000 1.00000" />
			</material>
		</visual>
		<collision>
			<origin rpy="0.00000 -0.00000 0.00000" xyz="0.00000 0.00000 0.00000"/>
			<geometry>
				<mesh filename="package://armar6_description/mesh/stl/visual/hand_v3/ring_inter.stl" scale="1.00000 1.00000 1.00000"/>
			</geometry>
		</collision>
	</link>
	<joint name="Ring R 3 Joint" type="revolute">
		<parent link="Ring R 2"/>
		<child link="Ring R 3"/>
    <limit effort="100" lower="0" upper="1.57" velocity="3.1415"/>
		<dynamics damping="1.0" friction="0.0001"/>
		<origin rpy="0.00000 -0.00000 0.00000" xyz="-0.00000 -0.03704 0.00000"/>
		<axis xyz="1.00000 0.00000 0.00000"/>
	</joint>
	<link name="Ring R 3">
		<inertial>
			<origin rpy="0.00000 -0.00000 0.00000" xyz="0.00000 0.00000 0.00000"/>
			<mass value="0.00000"/>
			<inertia ixx="0.00000" ixy="0" ixz="0" iyy="0.00000" iyz="0" izz="0.00000"/>
		</inertial>
		<visual>
			<origin rpy="1.57080 -0.00000 -3.14159" xyz="0.00000 0.00000 0.00000"/>
			<geometry>
				<mesh filename="package://armar6_description/mesh/stl/visual/hand_v3/ring_dist.stl" scale="1.00000 1.00000 1.00000"/>
			</geometry>
			<material name="mat_107_0">
				<color rgba="1.00000 1.00000 1.00000 1.00000" />
			</material>
		</visual>
		<collision>
			<origin rpy="1.57080 -0.00000 -3.14159" xyz="0.00000 0.00000 0.00000"/>
			<geometry>
				<mesh filename="package://armar6_description/mesh/stl/visual/hand_v3/ring_dist.stl" scale="1.00000 1.00000 1.00000"/>
			</geometry>
		</collision>
	</link>
	<joint name="Thumb R 1 Joint" type="revolute">
		<parent link="Hand R Palm"/>
		<child link="Thumb R 1"/>
    <limit effort="100" lower="0" upper="1.57" velocity="3.1415"/>
		<dynamics damping="1.0" friction="0.0001"/>
		<origin rpy="2.91903 -1.18743 -2.93505" xyz="0.08111 -0.04691 -0.03950"/>
		<axis xyz="1.00000 0.00000 0.00000"/>
	</joint>
	<link name="Thumb R 1">
		<inertial>
			<origin rpy="0.00000 -0.00000 0.00000" xyz="0.00000 0.00000 0.00000"/>
			<mass value="0.00000"/>
			<inertia ixx="0.00000" ixy="0" ixz="0" iyy="0.00000" iyz="0" izz="0.00000"/>
		</inertial>
		<visual>
			<origin rpy="0.00000 -0.00000 0.00000" xyz="0.00000 0.00000 0.00000"/>
			<geometry>
				<mesh filename="package://armar6_description/mesh/stl/visual/hand_v3/thumb_prox.stl" scale="1.00000 1.00000 1.00000"/>
			</geometry>
			<material name="mat_109_0">
				<color rgba="1.00000 1.00000 1.00000 1.00000" />
			</material>
		</visual>
		<collision>
			<origin rpy="0.00000 -0.00000 0.00000" xyz="0.00000 0.00000 0.00000"/>
			<geometry>
				<mesh filename="package://armar6_description/mesh/stl/visual/hand_v3/thumb_prox.stl" scale="1.00000 1.00000 1.00000"/>
			</geometry>
		</collision>
	</link>
	<joint name="Thumb R 2 Joint" type="revolute">
		<parent link="Thumb R 1"/>
		<child link="Thumb R 2"/>
    <limit effort="100" lower="0" upper="1.57" velocity="3.1415"/>
		<dynamics damping="1.0" friction="0.0001"/>
		<origin rpy="0.00000 -0.00000 0.00000" xyz="-0.00002 -0.04408 -0.00005"/>
		<axis xyz="1.00000 0.00000 0.00000"/>
	</joint>
	<link name="Thumb R 2">
		<inertial>
			<origin rpy="0.00000 -0.00000 0.00000" xyz="0.00000 0.00000 0.00000"/>
			<mass value="0.00000"/>
			<inertia ixx="0.00000" ixy="0" ixz="0" iyy="0.00000" iyz="0" izz="0.00000"/>
		</inertial>
		<visual>
			<origin rpy="3.14159 -0.00000 3.14159" xyz="0.00002 0.00000 -0.00003"/>
			<geometry>
				<mesh filename="package://armar6_description/mesh/stl/visual/hand_v3/thumb_dist.stl" scale="1.00000 1.00000 1.00000"/>
			</geometry>
			<material name="mat_111_0">
				<color rgba="1.00000 1.00000 1.00000 1.00000" />
			</material>
		</visual>
		<collision>
			<origin rpy="3.14159 -0.00000 3.14159" xyz="0.00002 0.00000 -0.00003"/>
			<geometry>
				<mesh filename="package://armar6_description/mesh/stl/visual/hand_v3/thumb_dist.stl" scale="1.00000 1.00000 1.00000"/>
			</geometry>
		</collision>
	</link>

</robot>
